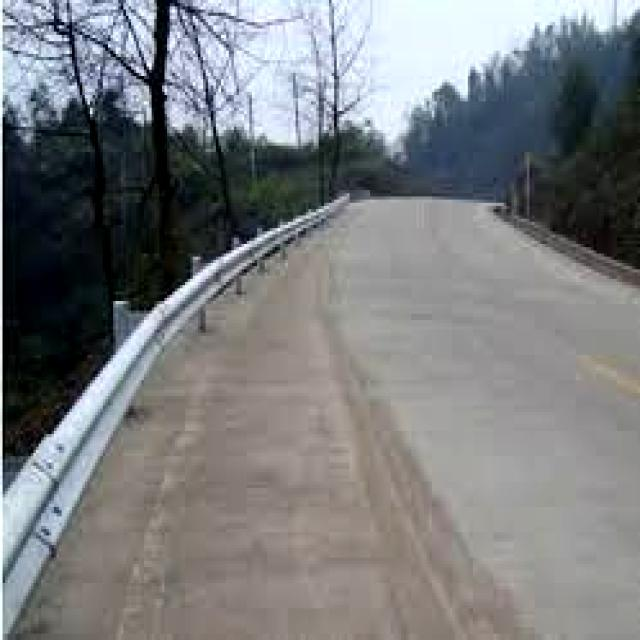Guard rail: (4, 194, 348, 634)
